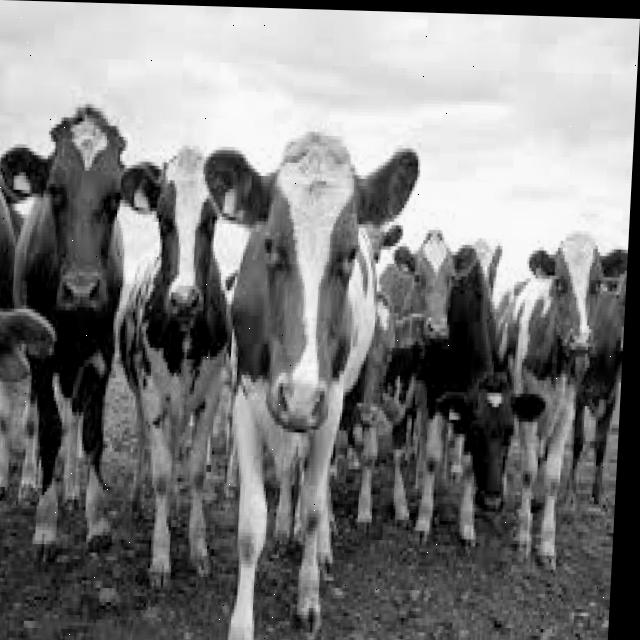Cow: (0, 94, 630, 640)
